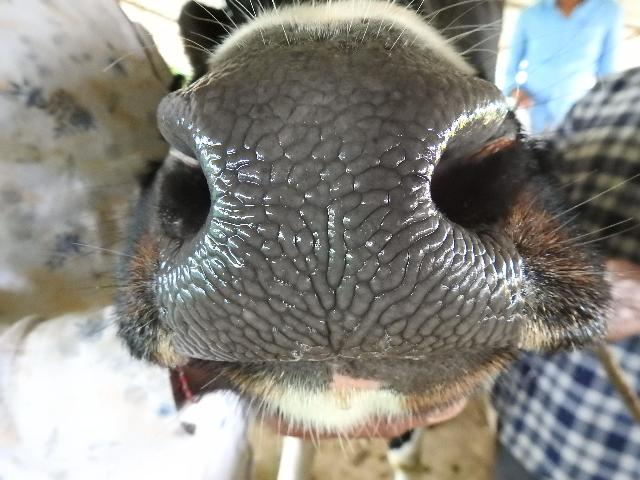Muzzle: (156, 66, 524, 358)
